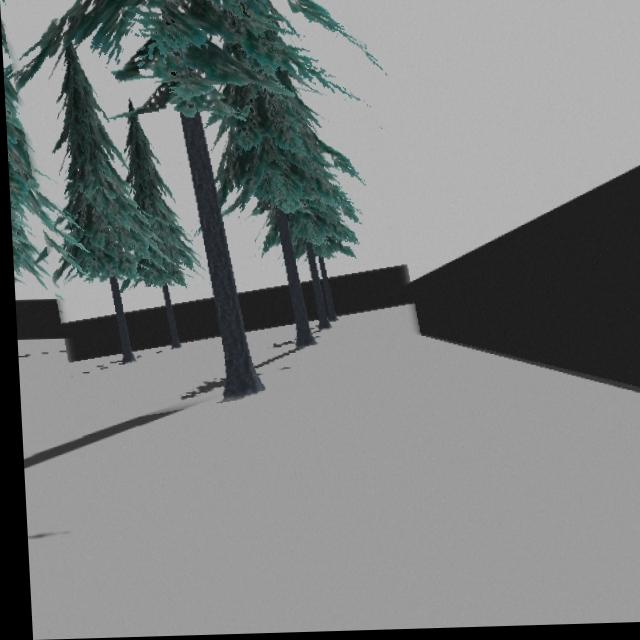tree: (12, 0, 332, 400)
